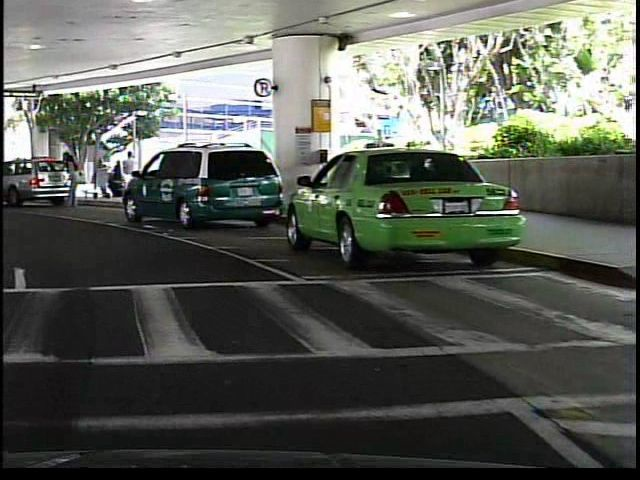person: (60, 151, 79, 208)
